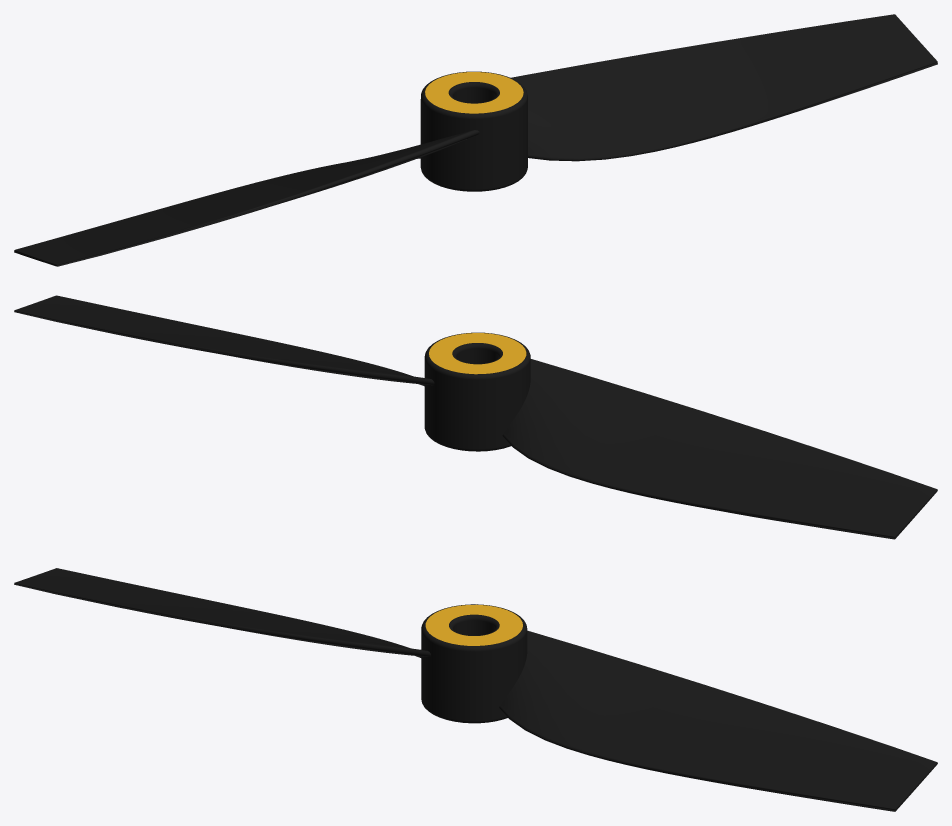
File: propeller.dae
3 views of the same model, one above another, from view 1: azimuth 30°, elevation 25°; view 2: azimuth 150°, elevation 25°; view 3: azimuth 330°, elevation 25° (orthographic).
Visible parts, largest first — view 1: Propeller v1; view 2: Propeller v1; view 3: Propeller v1.
Part boxes in pixels (x1,y1,x2,y2): Propeller v1: [14, 14, 937, 266]; Propeller v1: [14, 295, 937, 539]; Propeller v1: [14, 568, 937, 811].
Bounding box in the file's own units: 0.1192 × 0.0155 × 0.01.
